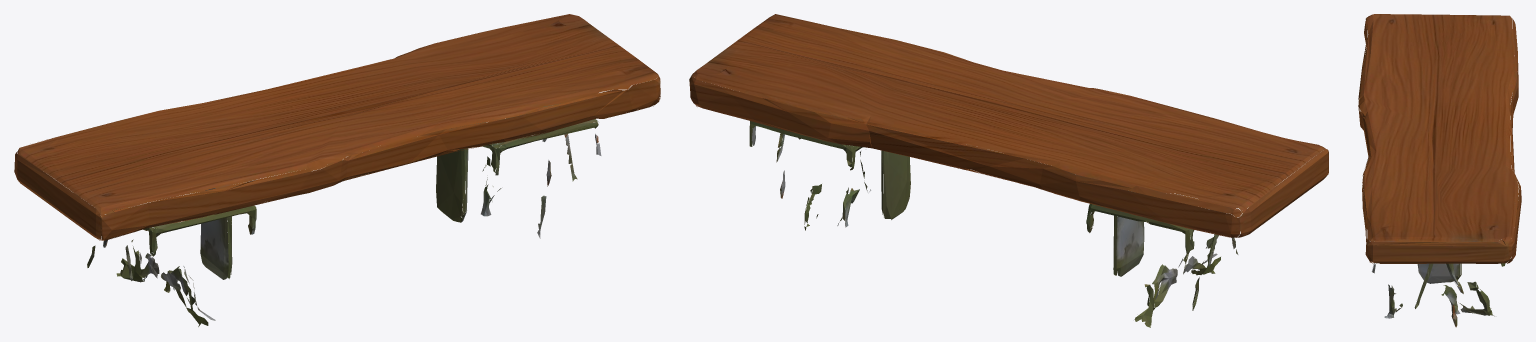
File: bench.glb
3 renders of one model, left to right at view 1: azimuth 30°, elevation 25°; view 2: azimuth 150°, elevation 25°; view 3: azimuth 270°, elevation 25°, orthographic. The views are drawn at different scales.
Parts seen in each view (by area): view 1: textured_mesh.obj; view 2: textured_mesh.obj; view 3: textured_mesh.obj.
Part boxes in pixels (x1=…): textured_mesh.obj: x1=14, y1=14, x2=660, y2=326; textured_mesh.obj: x1=689, y1=14, x2=1328, y2=327; textured_mesh.obj: x1=1358, y1=14, x2=1521, y2=327.
Bounding box in the file's own units: 1.73 × 0.4408 × 0.5237.
Materials: 1 (1 with a texture image).
